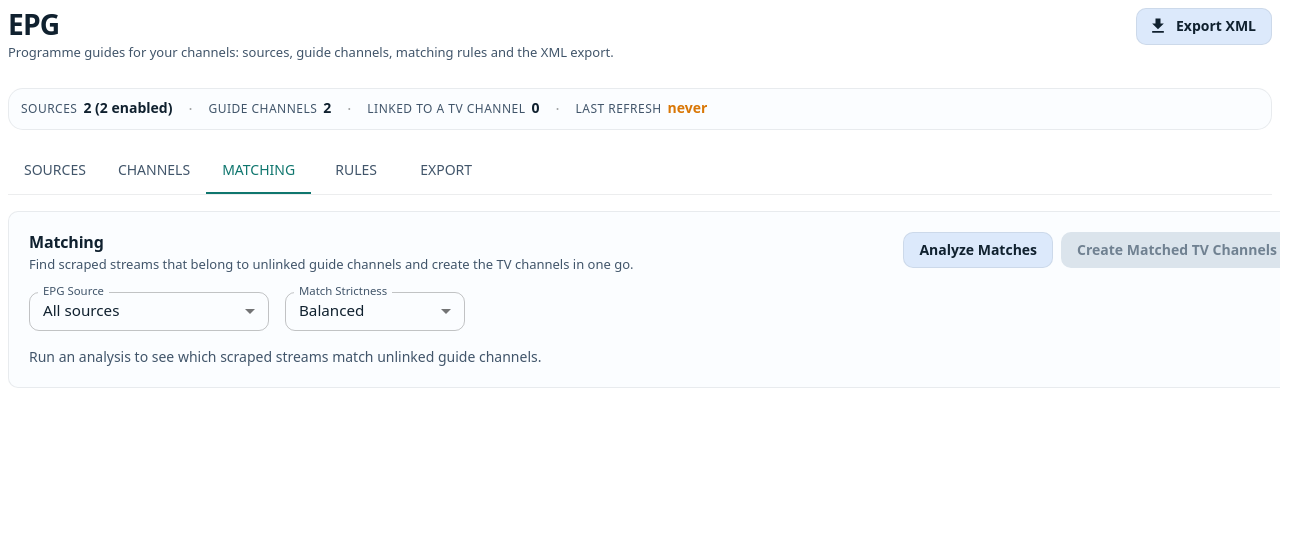
Test: EPG bulk match workflow › renders a clean zero-match analysis state
Step 1. Click the button "Analyze Matches" → click(978, 250), box [903,232,1053,268]
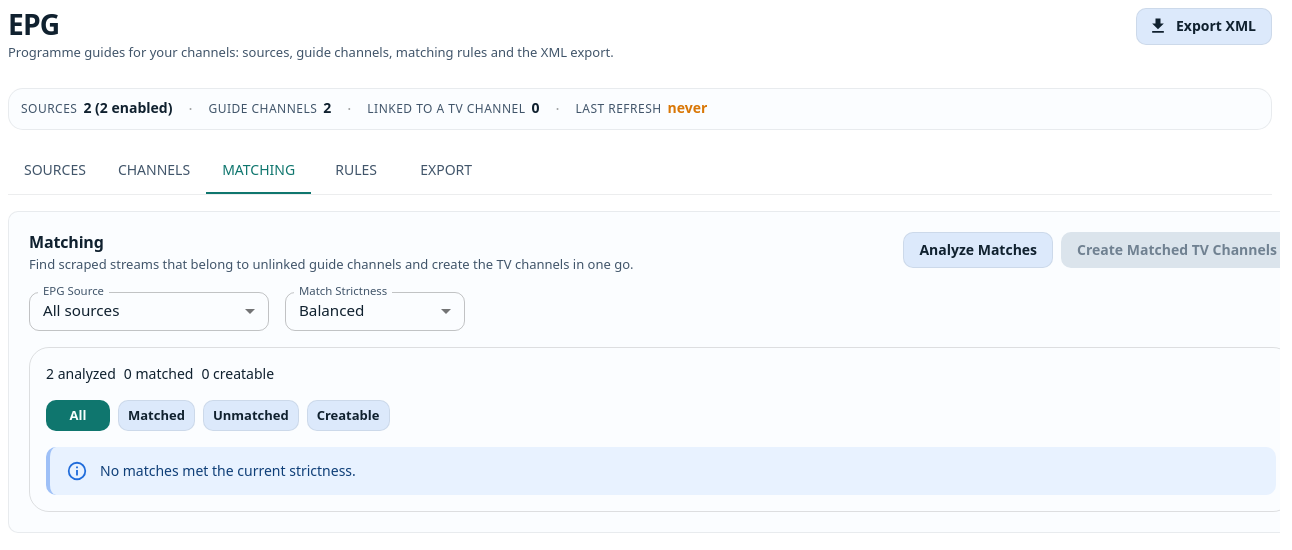
Now the text "2 analyzed" is shown, box [46,364,116,384]
Now the text "0 matched" is shown, box [124,364,193,384]
Now the text "0 creatable" is shown, box [201,364,274,384]
